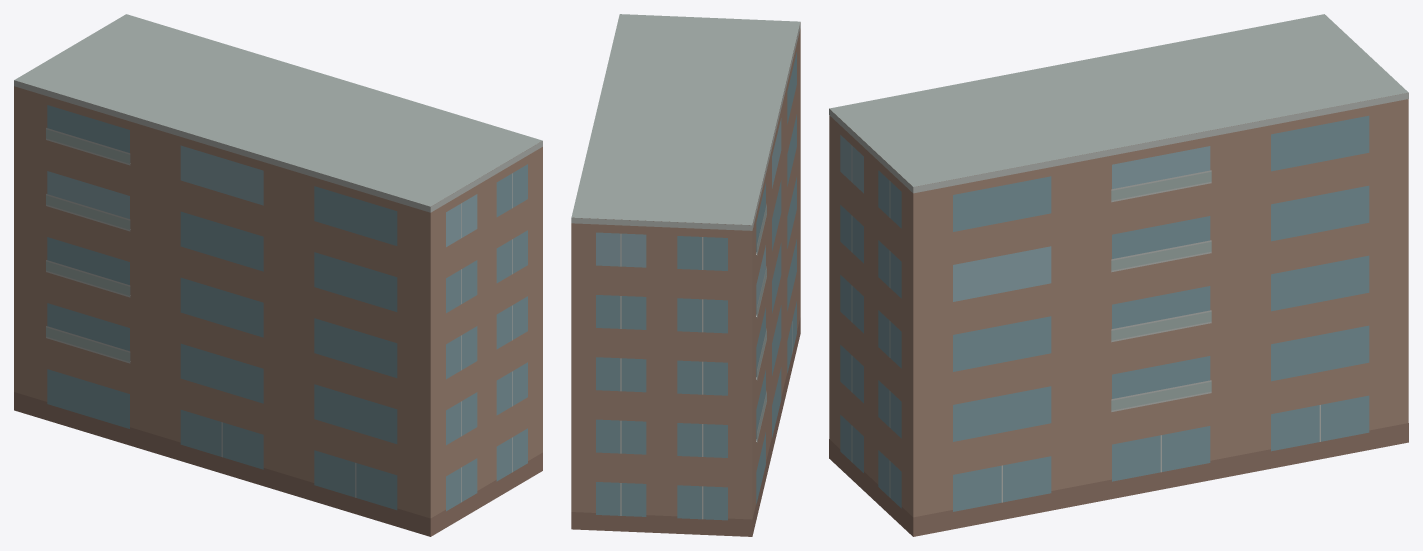
Rendered from survey-upis-32971568.glb.
3 renders of one model, left to right at view 1: azimuth 30°, elevation 25°; view 2: azimuth 150°, elevation 25°; view 3: azimuth 270°, elevation 25°, orthographic. The views are drawn at different scales.
Visible parts, largest first — view 1: survey-upis-32971568.tmp; view 2: survey-upis-32971568.tmp; view 3: survey-upis-32971568.tmp.
Part boxes in pixels (x1,y1,x2,y2): survey-upis-32971568.tmp: (14, 14, 542, 536); survey-upis-32971568.tmp: (571, 14, 800, 536); survey-upis-32971568.tmp: (829, 14, 1408, 536).
Bounding box in the file's own units: 14.17 × 13.35 × 20.06.
